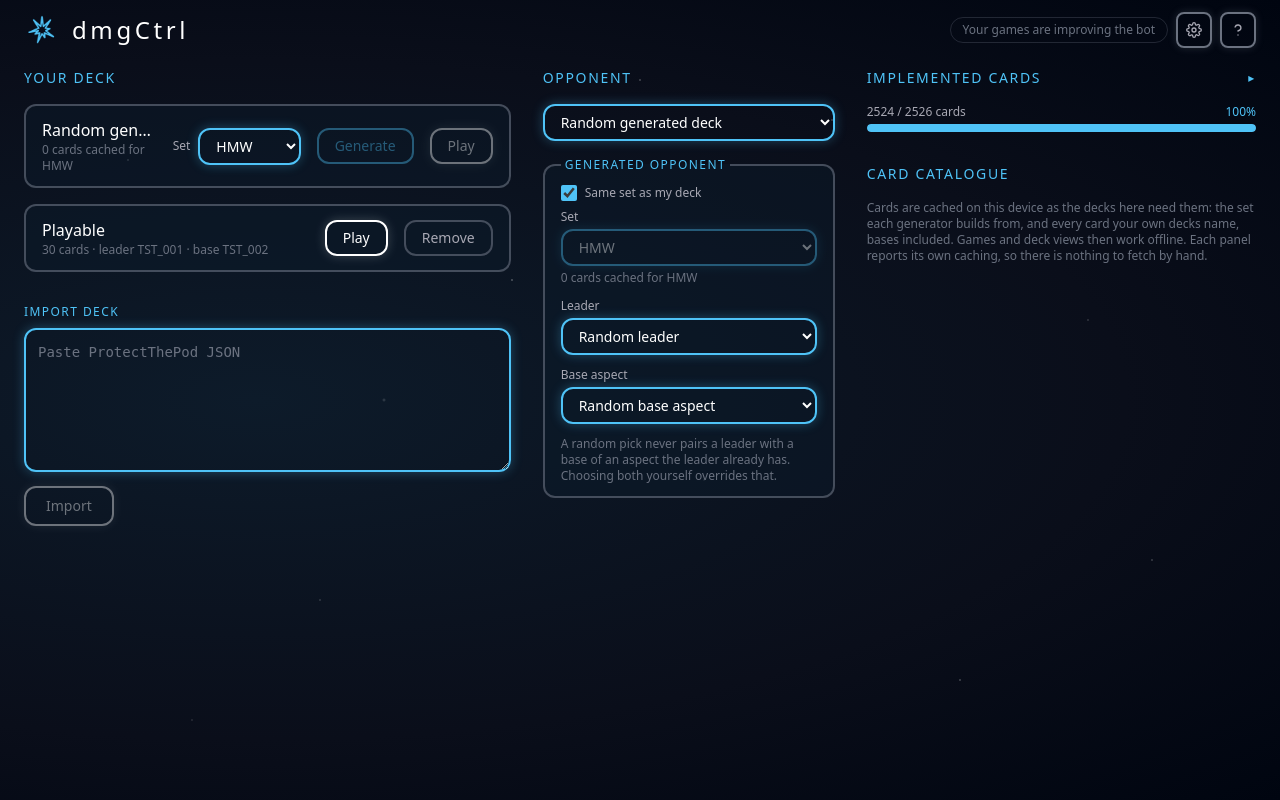
App shell › the notice about sharing games › shows no pill during a game after a yes
Select "Random built deck" in the dropdown with test id "opponent-deck-select" at (689, 122), box [543,104,835,141]
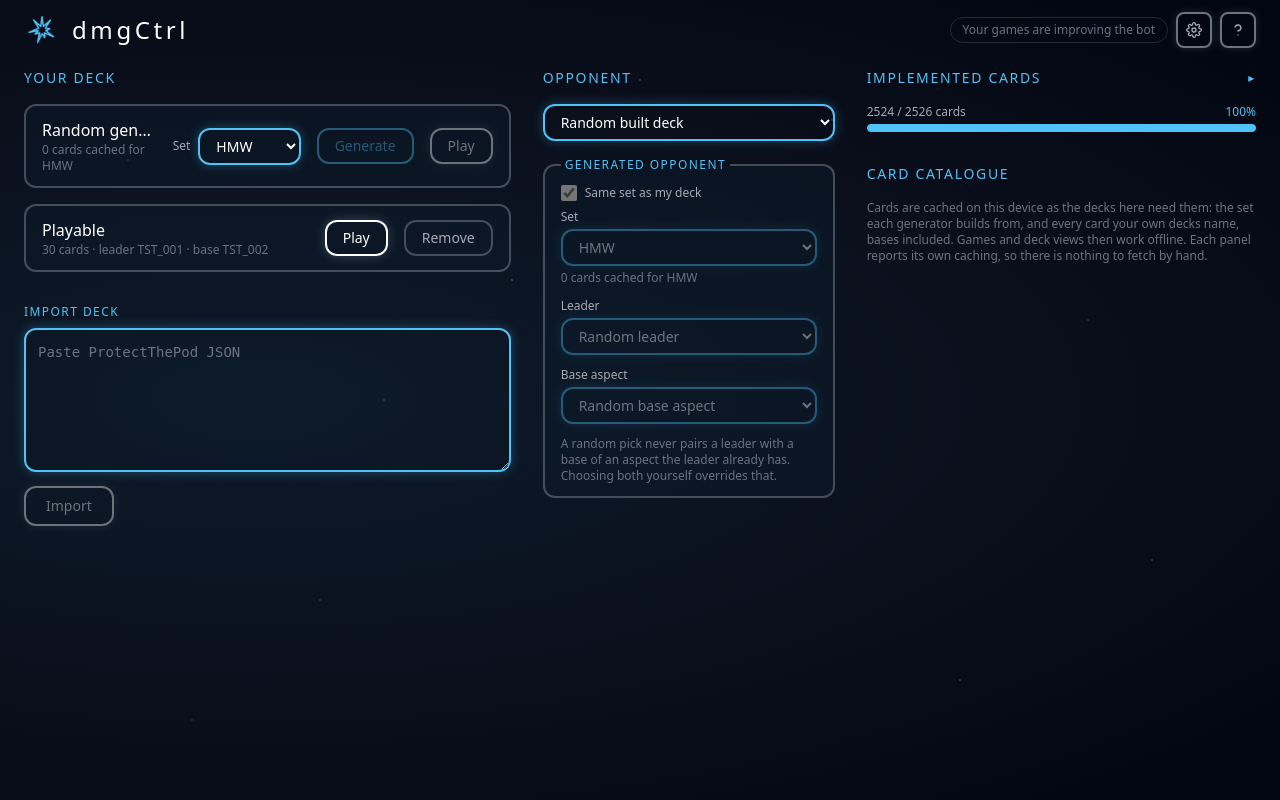
Click the button "Play" in the row of "Playable" at (356, 238), box [325,220,388,256]
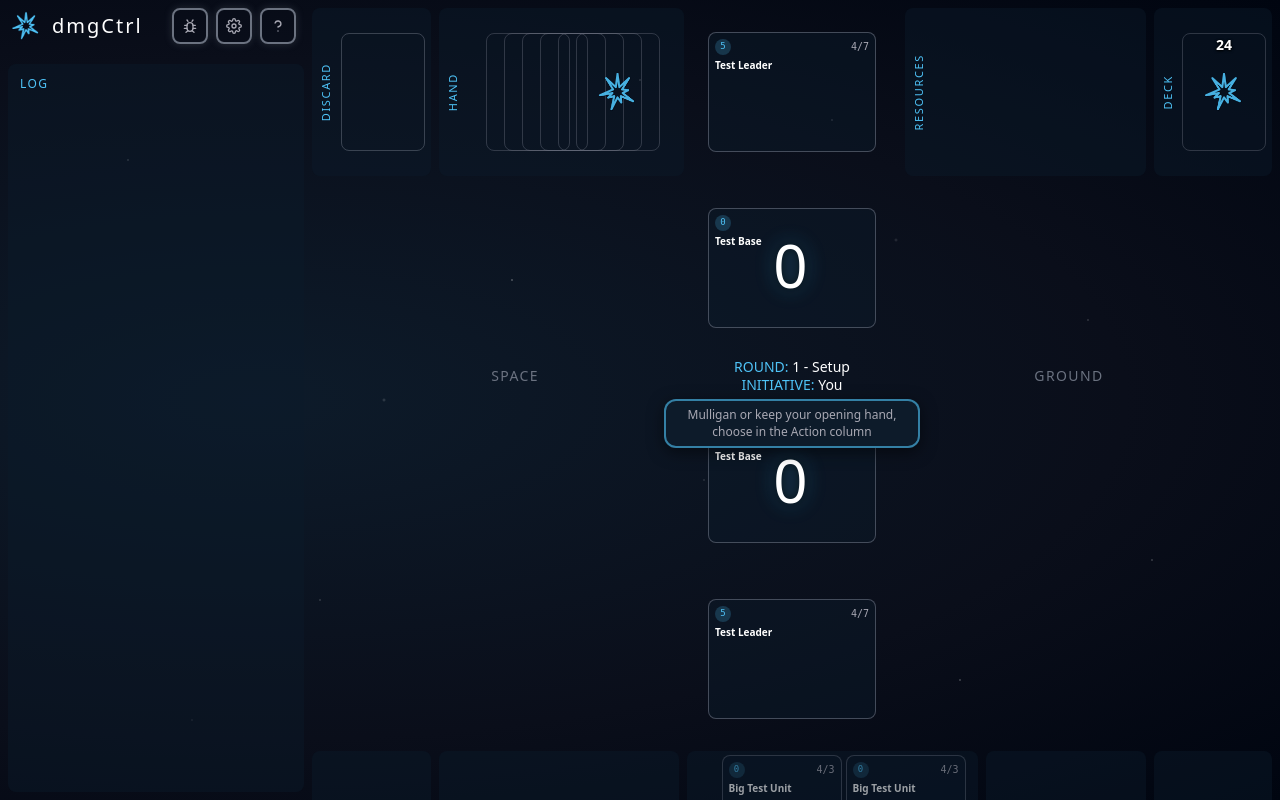
Result: the element with test id "game-board" is shown
Result: the button with test id "share-games-pill" is gone
